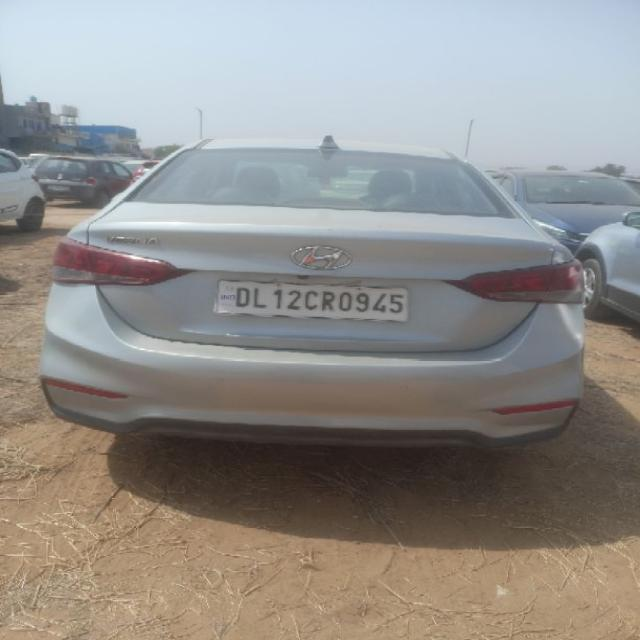license_plate: (213, 278, 410, 322)
